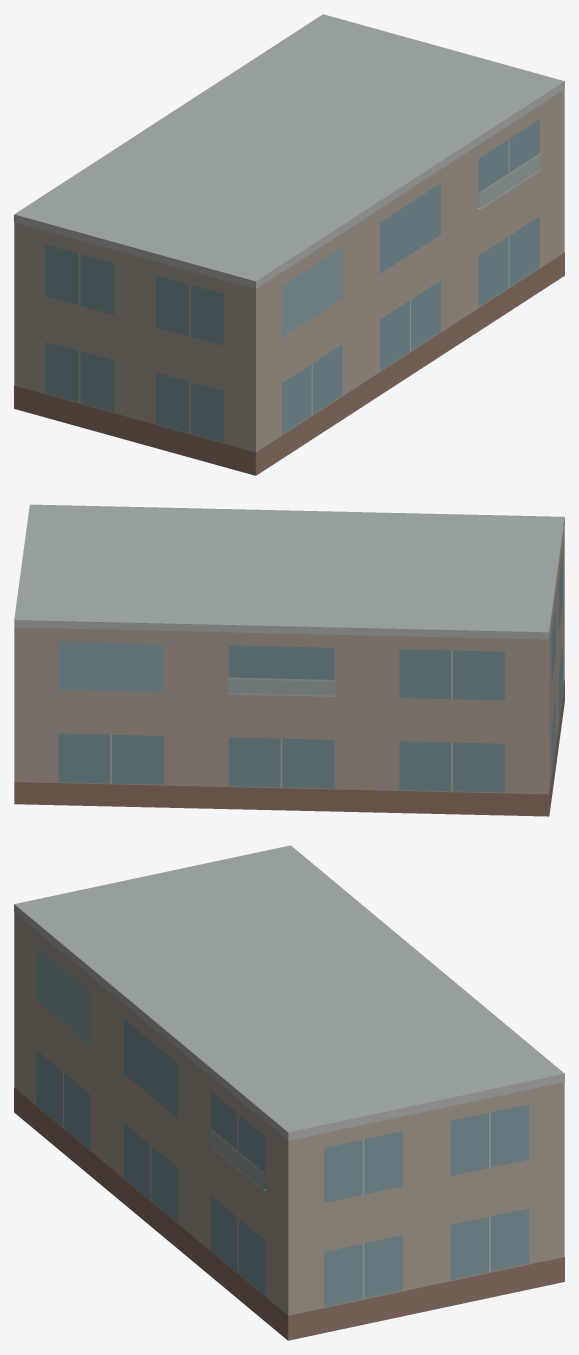
File: survey-upis-32704790.glb
3 renders of one model, top to bottom at view 1: azimuth 30°, elevation 25°; view 2: azimuth 150°, elevation 25°; view 3: azimuth 270°, elevation 25°, orthographic. The views are drawn at different scales.
Parts seen in each view (by area): view 1: survey-upis-32704790.tmp; view 2: survey-upis-32704790.tmp; view 3: survey-upis-32704790.tmp.
Part boxes in pixels (left/top/right/bottom): survey-upis-32704790.tmp: left=14, top=14, right=564, bottom=475; survey-upis-32704790.tmp: left=14, top=504, right=564, bottom=816; survey-upis-32704790.tmp: left=14, top=845, right=564, bottom=1340.
Size of the model in its own units: 18.06 by 6.1 by 14.63.
